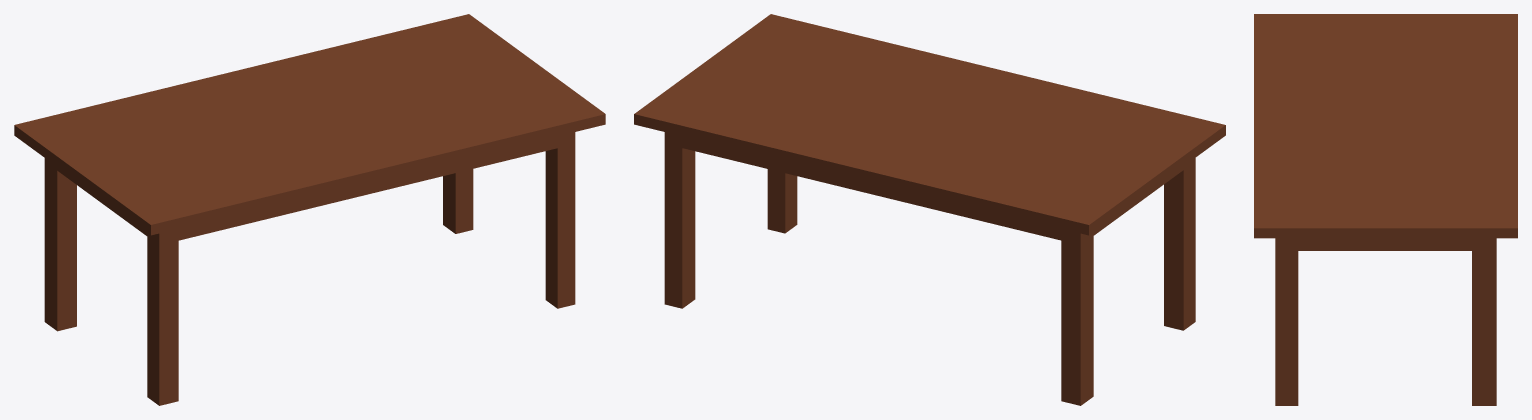
Rendered from PROP_Big_Table.fbx.
The picture shows the model from 3 angles, left to right: view 1: azimuth 30°, elevation 25°; view 2: azimuth 150°, elevation 25°; view 3: azimuth 270°, elevation 25°; orthographic projection. The views are drawn at different scales.
Visible parts, largest first — view 1: Table; view 2: Table; view 3: Table.
Part boxes in pixels (x1,y1,x2,y2): Table: (14,14,605,405); Table: (634,14,1225,405); Table: (1254,14,1517,405).
Size of the model in its own units: 171 by 69.68 by 89.13.
